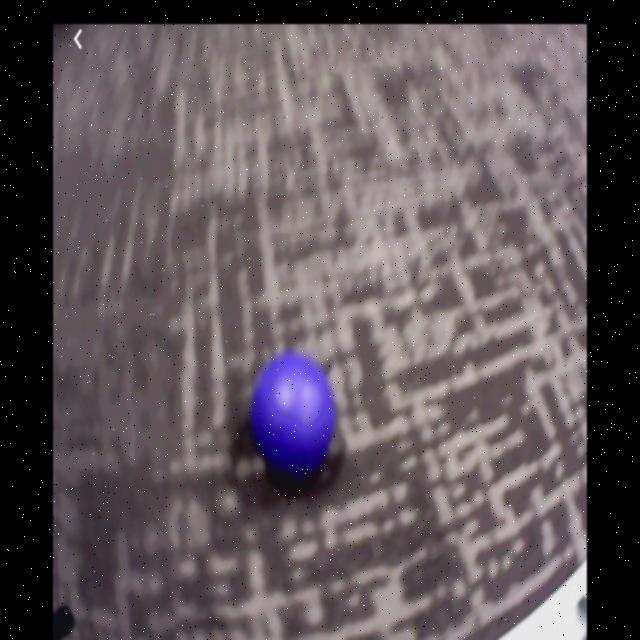ball: (255, 356, 337, 472)
